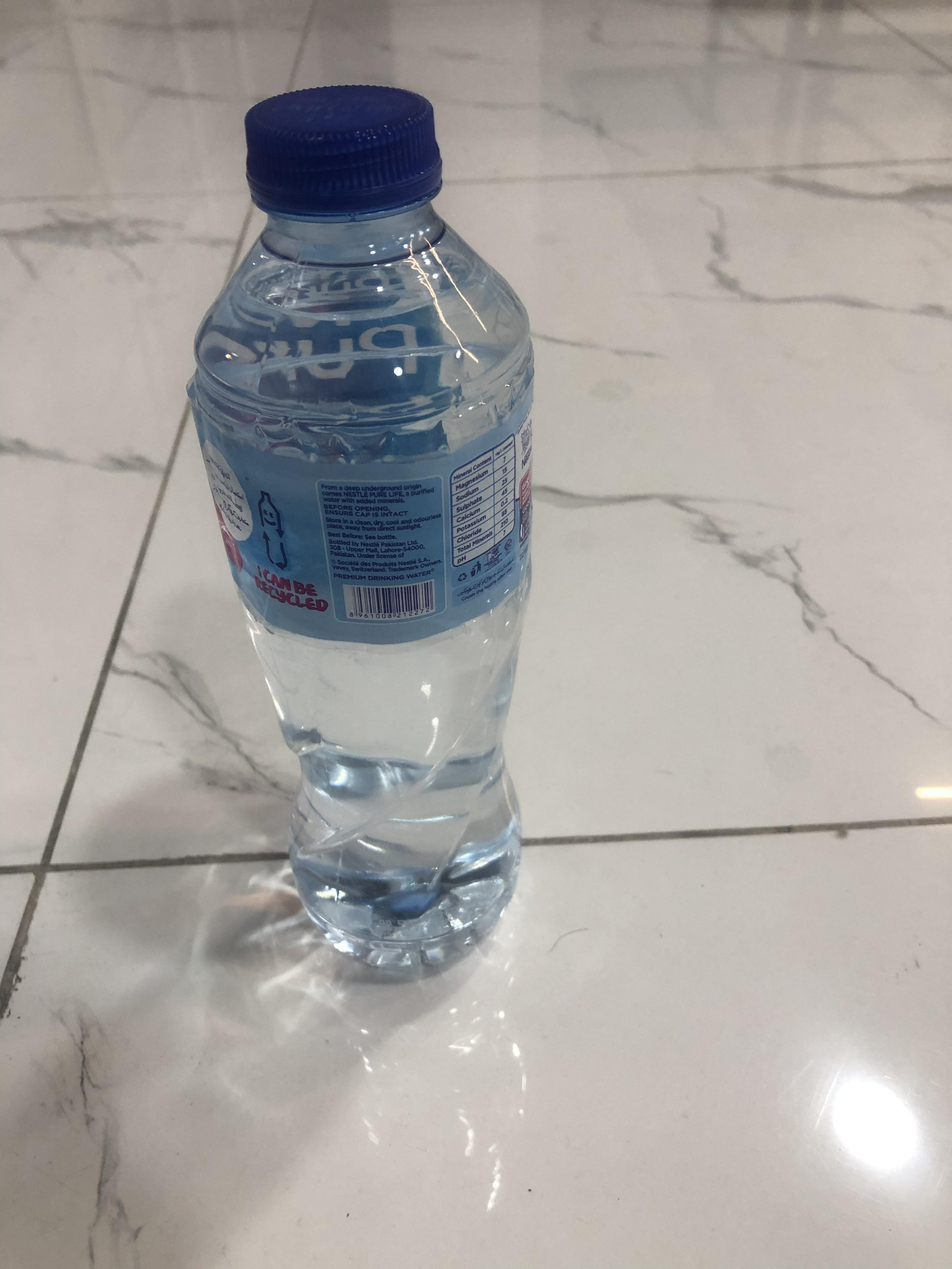bottle-plastic: (179, 72, 546, 980)
